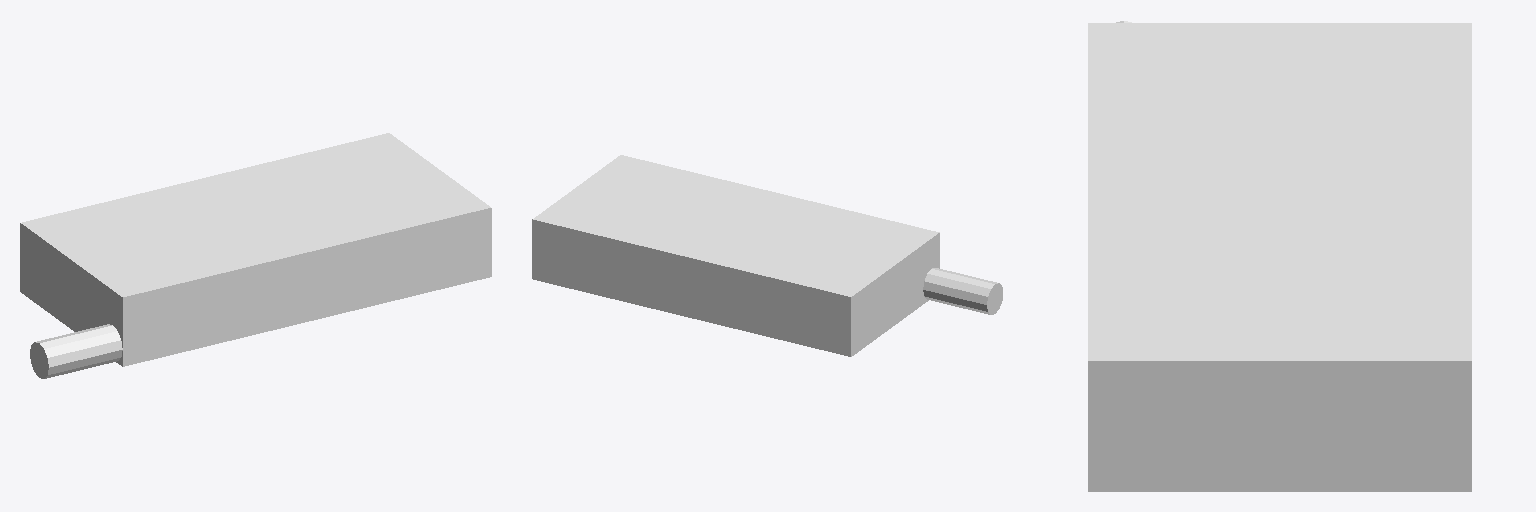
The robot description file, URDF, robot "docomo-p504is":
<?xml version="1.0"?>
<robot name="docomo-p504is"
       xmlns:xi="http://www.w3.org/2001/XInclude"
       xmlns:gazebo="http://playerstage.sourceforge.net/gazebo/xmlschema/#gz"
       xmlns:model="http://playerstage.sourceforge.net/gazebo/xmlschema/#model"
       xmlns:sensor="http://playerstage.sourceforge.net/gazebo/xmlschema/#sensor"
       xmlns:body="http://playerstage.sourceforge.net/gazebo/xmlschema/#body"
       xmlns:geom="http://playerstage.sourceforge.net/gazebo/xmlschema/#geom"
       xmlns:joint="http://playerstage.sourceforge.net/gazebo/xmlschema/#joint"
       xmlns:interface="http://playerstage.sourceforge.net/gazebo/xmlschema/#interface"
       xmlns:rendering="http://playerstage.sourceforge.net/gazebo/xmlschema/#rendering"
       xmlns:renderable="http://playerstage.sourceforge.net/gazebo/xmlschema/#renderable"
       xmlns:controller="http://playerstage.sourceforge.net/gazebo/xmlschema/#controller"
       xmlns:physics="http://playerstage.sourceforge.net/gazebo/xmlschema/#physics">
  <gazebo>
    <static>false</static>
  </gazebo>
  <link name="DOCOMO-P504IS-BODYSET2_link">
    <visual>
      <origin xyz="0 0 0" rpy="0 -0 0"/>
      <geometry>
        <mesh filename="model://docomo-p504is/meshes/DOCOMO-P504IS-BODYSET2_link_mesh.dae" scale="1 1 1" />
      </geometry>
    </visual>
    <collision>
      <origin xyz="0 0 0" rpy="0 -0 0"/>
      <geometry>
        <mesh filename="model://docomo-p504is/meshes/DOCOMO-P504IS-BODYSET2_link_mesh.dae" scale="1 1 1" />
      </geometry>
    </collision>
    <inertial>
      <mass value="0.001" />
      <origin xyz="0 0 0" rpy="0 -0 0"/>
      <inertia ixx="1e-09" ixy="0" ixz="0" iyy="1e-09" iyz="0" izz="1e-09"/>
    </inertial>
  </link>
  <gazebo reference="DOCOMO-P504IS-BODYSET2_link">
    <mu1>0.9</mu1>
    <mu2>0.9</mu2>
  </gazebo>
  <link name="DOCOMO-P504IS-BODYSET3_link">
    <visual>
      <origin xyz="-0.0455 0 0.0135" rpy="0 -0 0"/>
      <geometry>
        <mesh filename="model://docomo-p504is/meshes/DOCOMO-P504IS-BODYSET3_link_mesh.dae" scale="1 1 1" />
      </geometry>
    </visual>
    <collision>
      <origin xyz="-0.0455 0 0.0135" rpy="0 -0 0"/>
      <geometry>
        <mesh filename="model://docomo-p504is/meshes/DOCOMO-P504IS-BODYSET3_link_mesh.dae" scale="1 1 1" />
      </geometry>
    </collision>
    <inertial>
      <mass value="0.001" />
      <origin xyz="0 0 0" rpy="0 -0 0"/>
      <inertia ixx="1e-09" ixy="0" ixz="0" iyy="1e-09" iyz="0" izz="1e-09"/>
    </inertial>
  </link>
  <gazebo reference="DOCOMO-P504IS-BODYSET3_link">
    <mu1>0.9</mu1>
    <mu2>0.9</mu2>
  </gazebo>
  <joint name="BASE-JOINT" type="revolute">
    <parent link="DOCOMO-P504IS-BODYSET2_link"/>
    <child  link="DOCOMO-P504IS-BODYSET3_link"/>
    <origin xyz="-0.0455 0 0.0135" rpy="0 -0 0 "/>
    <axis   xyz="0 -1 0"/>
    <limit lower="0" upper="3.14159" effort="100" velocity="0.5" />
    <dynamics damping="0.2" friction="0" />
  </joint>
  <transmission type="pr2_mechanism_model/SimpleTransmission" name="BASE-JOINT_trans" >
    <actuator name="BASE-JOINT_motor" />
    <joint name="BASE-JOINT" />
    <mechanicalReduction>1</mechanicalReduction>
  </transmission>
  <gazebo reference="BASE-JOINT">
    <cfmDamping>0.4</cfmDamping>
  </gazebo>
</robot>

--- What the picture shows (computed from the rendered views, not written in the file) ---
3 views of the same robot in one strip: view 1: azimuth 30°, elevation 25°; view 2: azimuth 150°, elevation 25°; view 3: azimuth 270°, elevation 25° (orthographic).
Model docomo-p504is with 2 links and 1 joints (1 revolute), rooted at DOCOMO-P504IS-BODYSET2_link, posed every joint at zero.
Links seen in each view (by area): view 1: DOCOMO-P504IS-BODYSET3_link, DOCOMO-P504IS-BODYSET2_link; view 2: DOCOMO-P504IS-BODYSET3_link, DOCOMO-P504IS-BODYSET2_link; view 3: DOCOMO-P504IS-BODYSET3_link, DOCOMO-P504IS-BODYSET2_link.
Boxes of the visible links, x1,y1,x2,y2 form: DOCOMO-P504IS-BODYSET3_link: (20, 133, 491, 331); DOCOMO-P504IS-BODYSET2_link: (20, 242, 491, 378); DOCOMO-P504IS-BODYSET3_link: (532, 155, 939, 326); DOCOMO-P504IS-BODYSET2_link: (532, 249, 1002, 356); DOCOMO-P504IS-BODYSET3_link: (1088, 23, 1471, 425); DOCOMO-P504IS-BODYSET2_link: (1088, 21, 1471, 491).
Size in the robot's own frame: 0.12 by 0.048 by 0.018 metres.
2 mesh visuals loaded from 2 distinct referenced files (2 Collada DAE).
